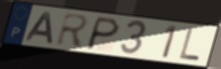1: (161, 24, 178, 60)
3: (119, 19, 148, 57)
A: (24, 11, 55, 45)
L: (178, 28, 202, 62)
P: (83, 15, 122, 51)
R: (54, 12, 92, 49)
